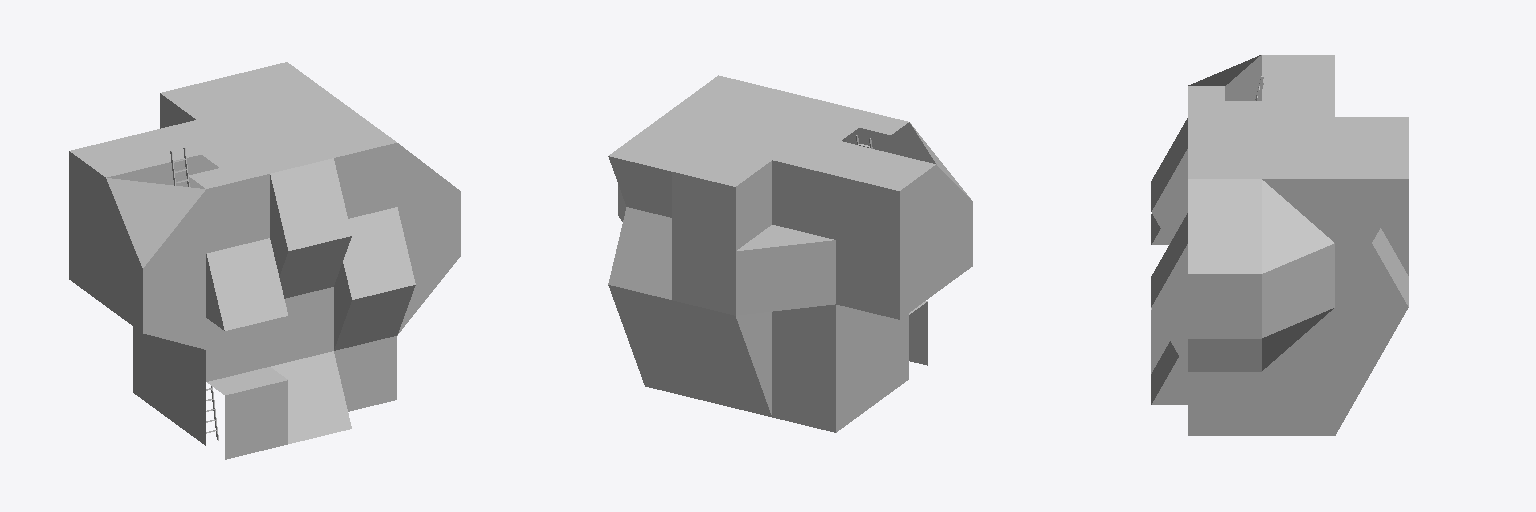
Rendered from climbing wall.obj.
3 renders of one model, left to right at view 1: azimuth 30°, elevation 25°; view 2: azimuth 150°, elevation 25°; view 3: azimuth 270°, elevation 25°, orthographic.
Visible parts, largest first — view 1: Mesh2 Model; view 2: Mesh2 Model; view 3: Mesh2 Model.
Part boxes in pixels (bbox=[...]): Mesh2 Model: bbox=[69, 62, 460, 459]; Mesh2 Model: bbox=[608, 75, 972, 432]; Mesh2 Model: bbox=[1151, 55, 1408, 435].
Bounding box in the file's own units: 10360 × 8339 × 7252.